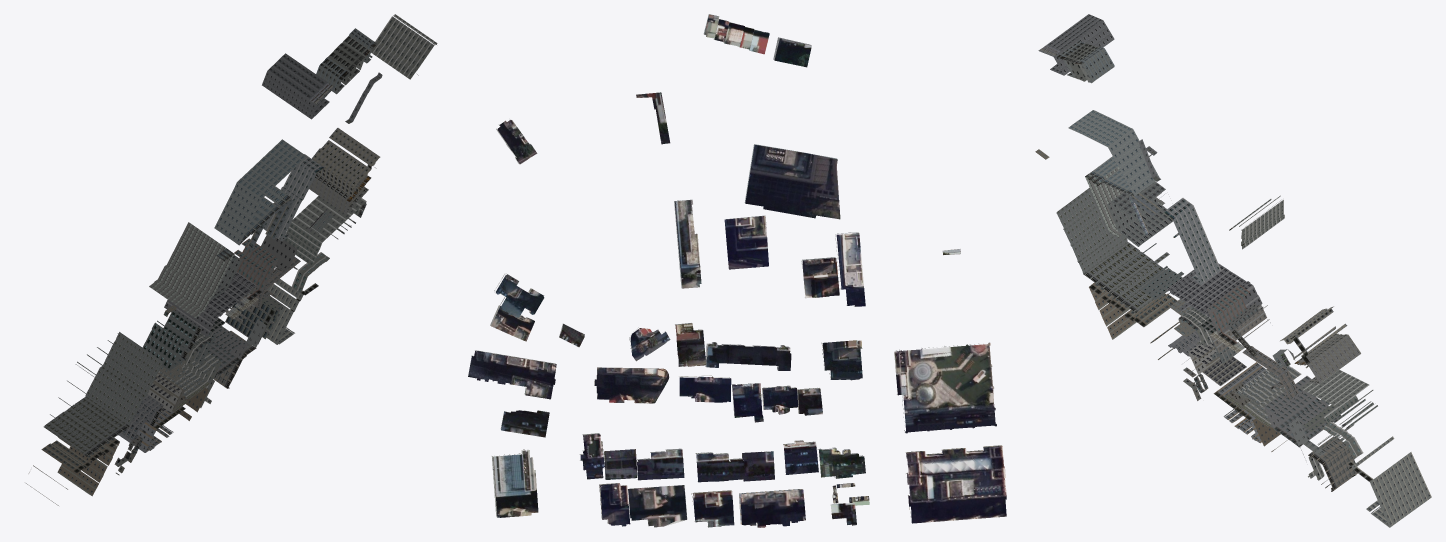
File: tile_LOD8_r3_c6.glb
3 renders of one model, left to right at view 1: azimuth 30°, elevation 25°; view 2: azimuth 150°, elevation 25°; view 3: azimuth 270°, elevation 25°, orthographic. The views are drawn at different scales.
Size of the model in its own units: 367 by 325 by 259.
212 materials, 212 textured.
